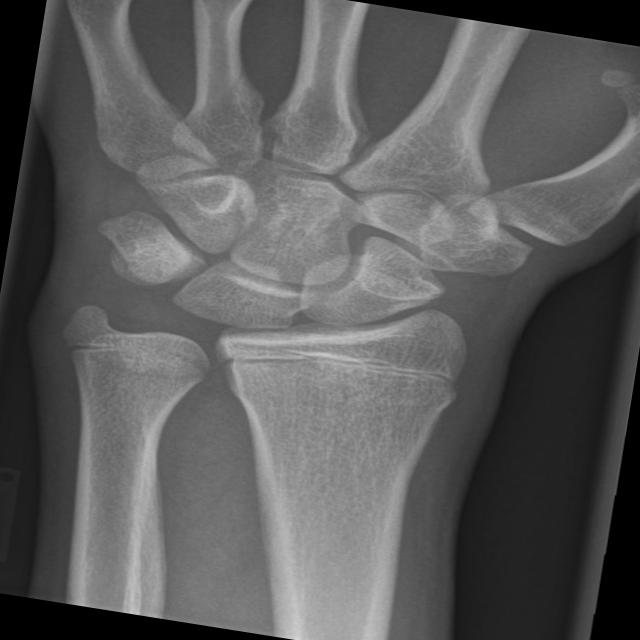fracture: (203, 323, 481, 418), (48, 313, 219, 395)
